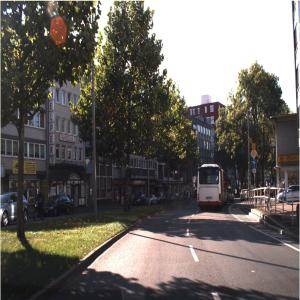go straight: (252, 160, 258, 170)
